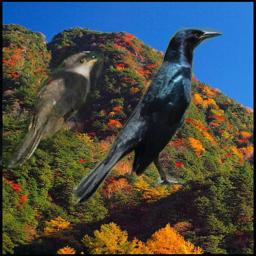Crow: (70, 26, 224, 206)
Cuckoo: (0, 51, 104, 172)
